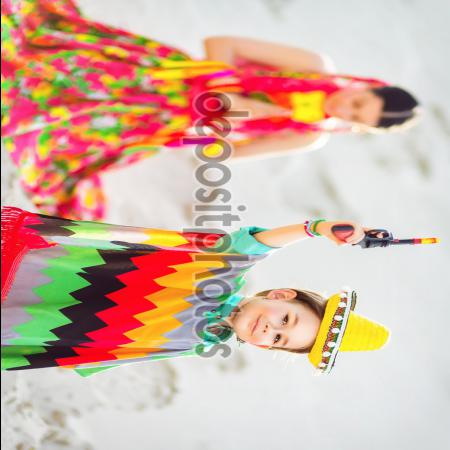Pistol: (334, 219, 440, 257)
